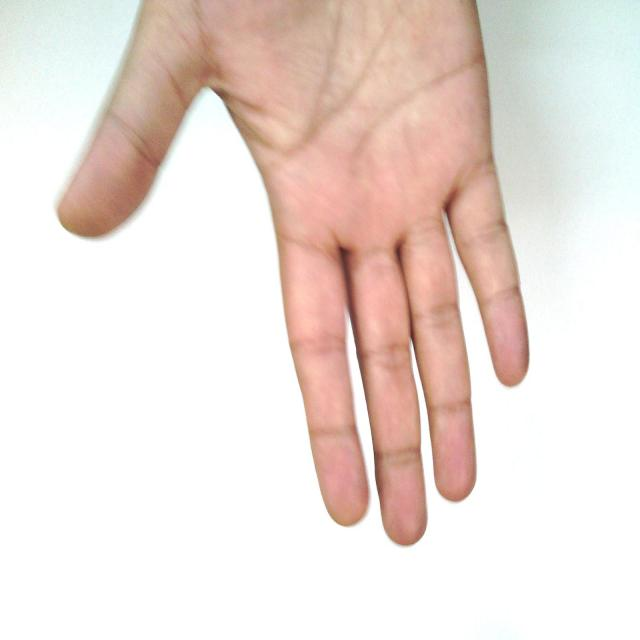others: (41, 0, 568, 558)
